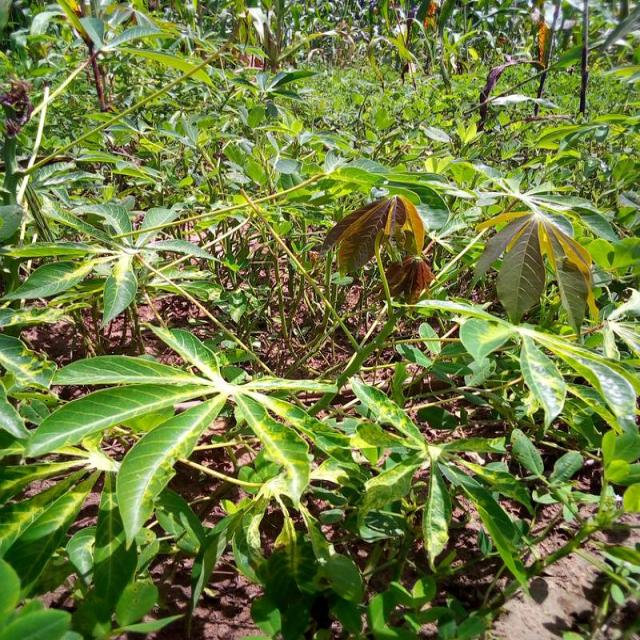cassava leaf: (114, 390, 228, 550), (319, 193, 425, 282)
